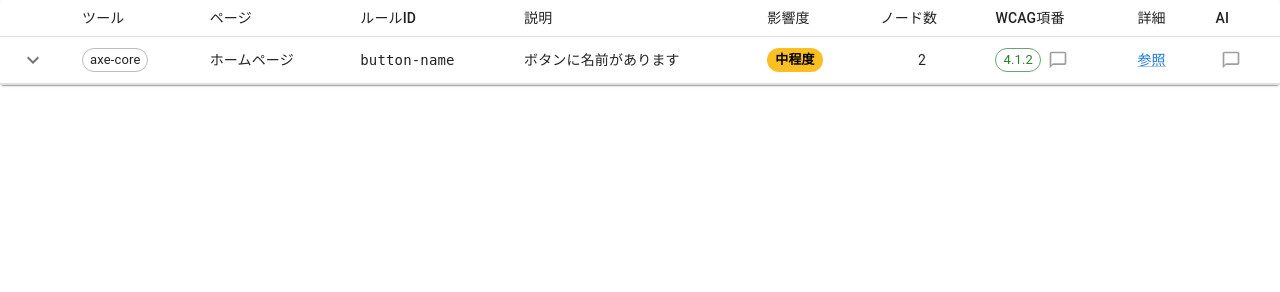
Test: PassesTable › NodeDetails展開機能 › 展開ボタンをクリックするとノード情報が表示される
Expected: the text "<button>送信</button>" is not shown
Note: 展開ボタンをクリック
Click the button named "ノード情報を展開" at (33, 60), box [16, 43, 50, 77]
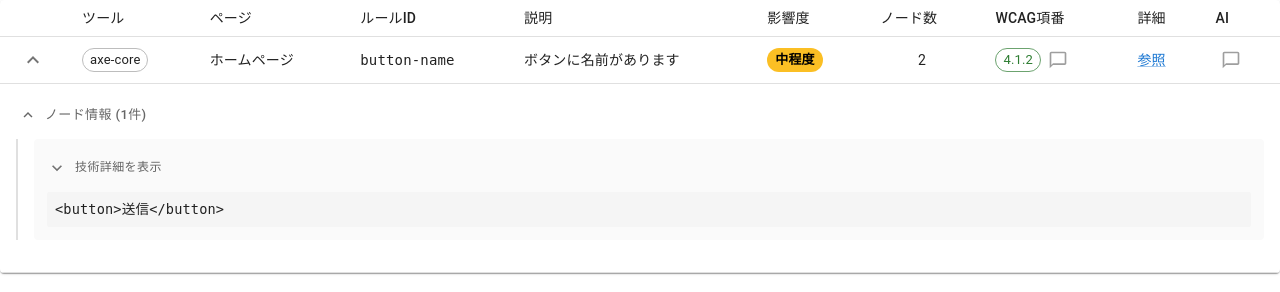
Expected: the text "<button>送信</button>" is shown, [47, 192, 1251, 227]
